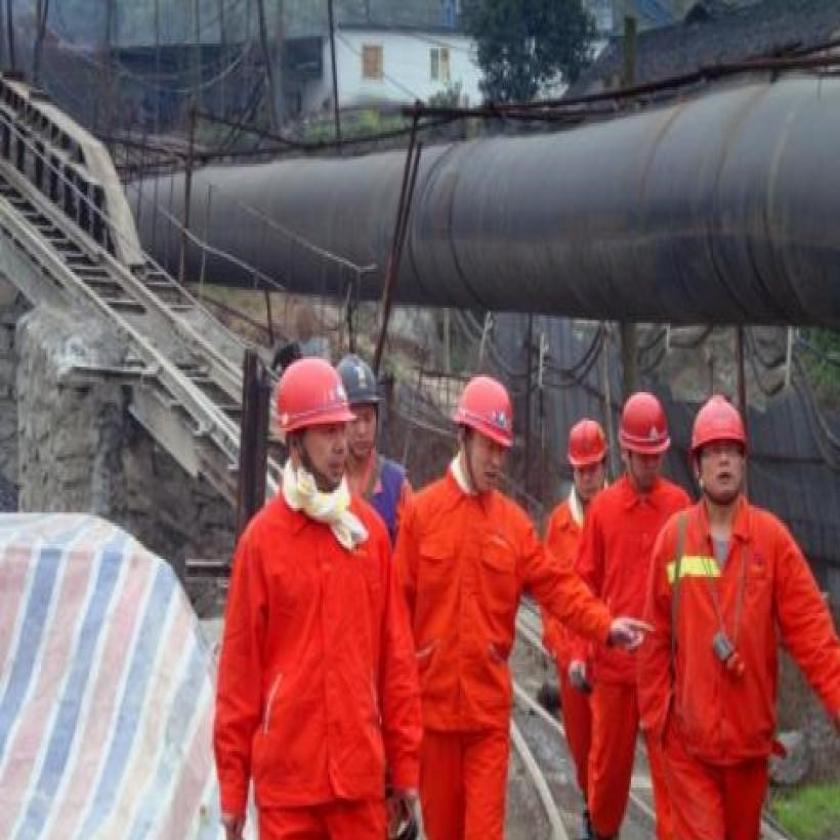Con_casco: (279, 357, 352, 513), (679, 387, 753, 511), (456, 375, 515, 492), (332, 344, 385, 474), (618, 374, 670, 491)
